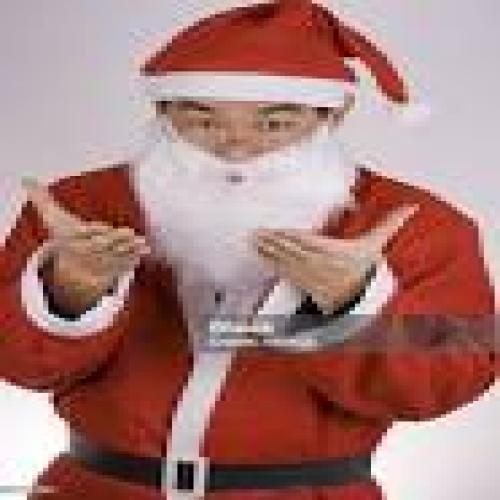Santa: (5, 0, 498, 500)
